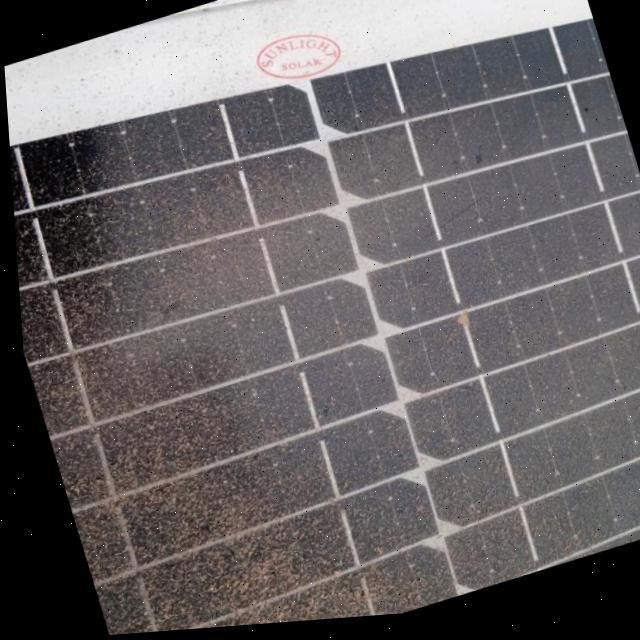Anomaly Solar Panel: (8, 27, 640, 636)
Surface Contaminant: (8, 25, 640, 636)
